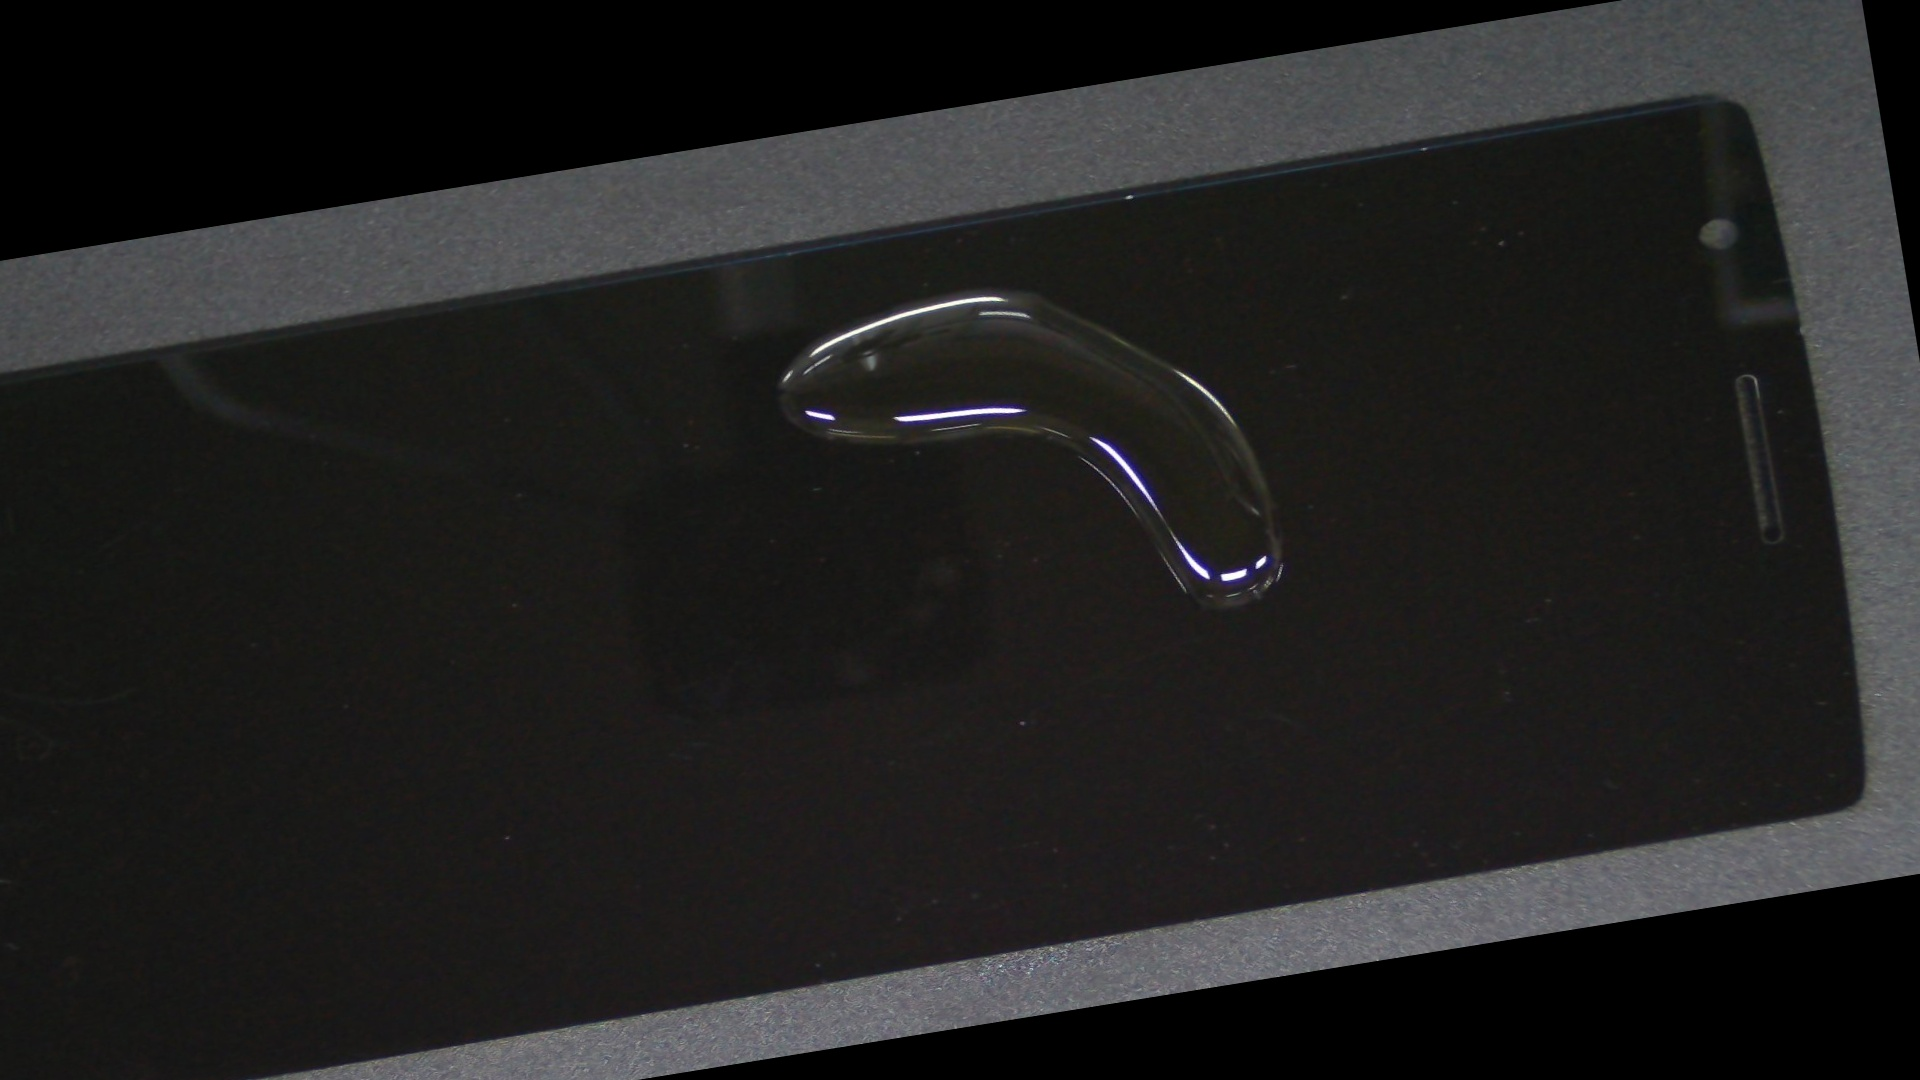oil: (361, 103, 1581, 475)
